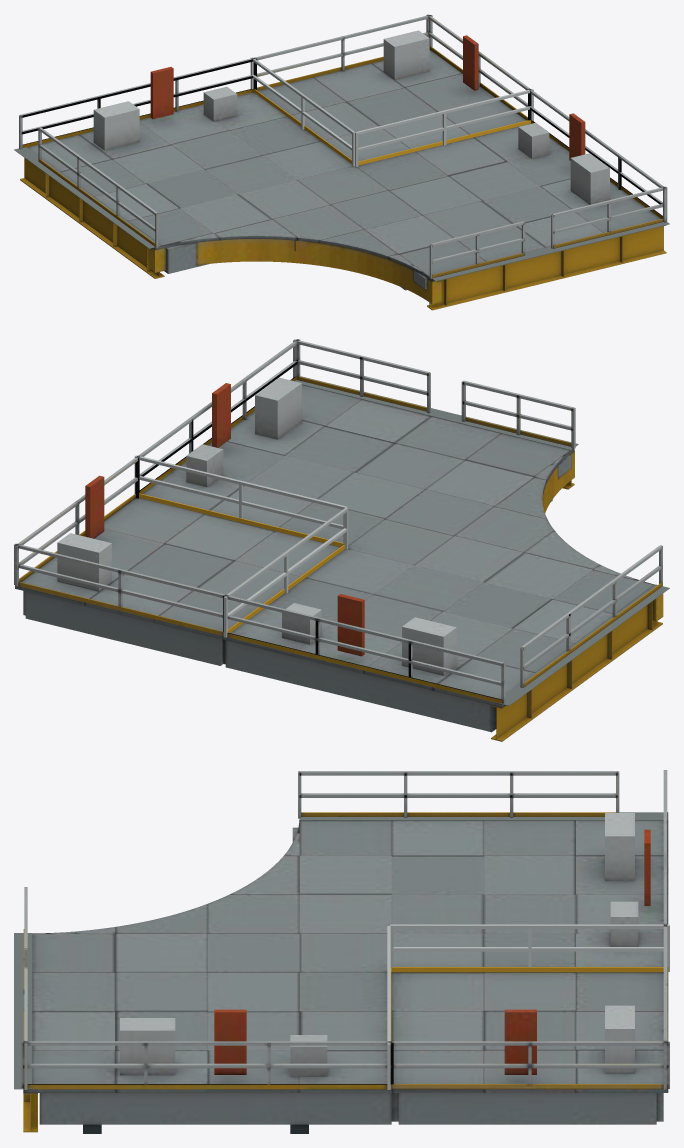
File: deck_quad_v5_far.glb
3 renders of one model, top to bottom at view 1: azimuth 30°, elevation 25°; view 2: azimuth 150°, elevation 25°; view 3: azimuth 270°, elevation 25°, orthographic. The views are drawn at different scales.
Parts seen in each view (by area): view 1: body, opt_corner, opt_edgeA_slot, opt_edgeB_slot, opt_cornercut, opt_edgeB_seam, opt_edgeA_seam; view 2: body, opt_corner, opt_edgeB_slot, opt_cornercut, opt_edgeA_slot, opt_edgeB_seam, opt_edgeA_seam; view 3: body, opt_corner, opt_cornercut, opt_edgeB_slot, opt_edgeA_seam, opt_edgeA_slot, opt_edgeB_seam.
Part boxes in pixels (<box>): body: <box>19,57,666,304</box>; opt_corner: <box>253,14,530,161</box>; opt_edgeA_slot: <box>427,186,667,310</box>; opt_edgeB_slot: <box>20,127,164,278</box>; opt_cornercut: <box>250,57,533,166</box>; opt_edgeB_seam: <box>14,147,160,248</box>; opt_edgeA_seam: <box>429,222,669,281</box>; body: <box>137,339,663,732</box>; opt_corner: <box>14,457,340,665</box>; opt_edgeB_slot: <box>491,545,662,741</box>; opt_cornercut: <box>134,455,348,637</box>; opt_edgeA_slot: <box>293,339,575,489</box>; opt_edgeB_seam: <box>495,584,669,705</box>; opt_edgeA_seam: <box>295,376,578,450</box>; body: <box>21,770,668,1133</box>; opt_corner: <box>391,926,669,1124</box>; opt_cornercut: <box>387,924,669,1089</box>; opt_edgeB_slot: <box>298,771,619,818</box>; opt_edgeA_seam: <box>14,933,32,1089</box>; opt_edgeA_slot: <box>23,887,37,1132</box>; opt_edgeB_seam: <box>299,812,668,820</box>.
Size of the model in its own units: 14.24 by 2.76 by 14.24.
Materials: 6 (4 with a texture image).
